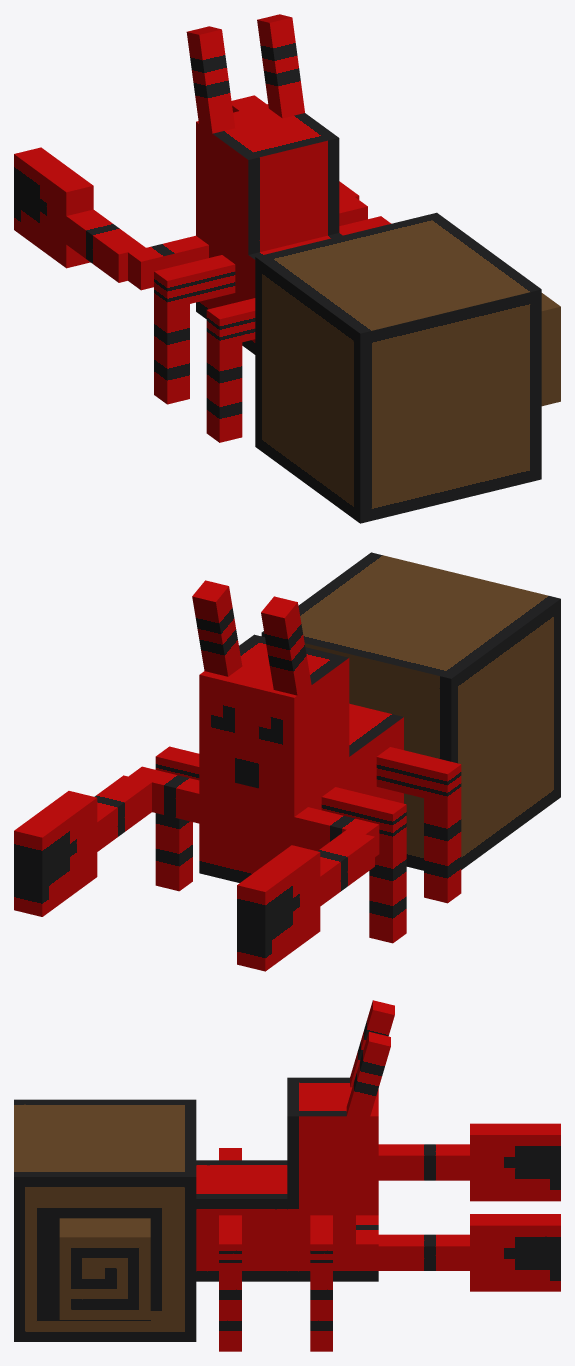
Rendered from hermitcrab.gltf.
3 renders of one model, top to bottom at view 1: azimuth 30°, elevation 25°; view 2: azimuth 150°, elevation 25°; view 3: azimuth 270°, elevation 25°, orthographic. The views are drawn at different scales.
Visible parts, largest first — view 1: shell (×2), head, claw (×4), leg (×4), antenna (×2), body (×2); view 2: shell, claw (×6), head, leg (×6), body (×2), antenna (×2); view 3: shell (×2), claw (×5), body (×2), head, leg (×4), antenna (×2).
Boxes of the visible parts, x1,y1,x2,y2 form: shell (×2): (255,212,560,523); head: (196,104,339,254); claw (×4): (14,147,367,290); leg (×4): (154,255,255,442); antenna (×2): (186,14,304,133); body (×2): (196,217,342,354); shell: (261,552,560,870); claw (×6): (14,766,379,971); head: (199,634,349,796); leg (×6): (155,746,461,943); body (×2): (199,703,403,882); antenna (×2): (192,580,311,697); shell (×2): (14,1099,196,1341); claw (×5): (356,1123,560,1291); body (×2): (196,1160,378,1281); head: (287,1077,378,1198); leg (×4): (219,1215,332,1351); antenna (×2): (346,1000,394,1125).
Bounding box in the file's own units: 0.1781 × 0.2149 × 0.375.
11 materials, 10 textured.
